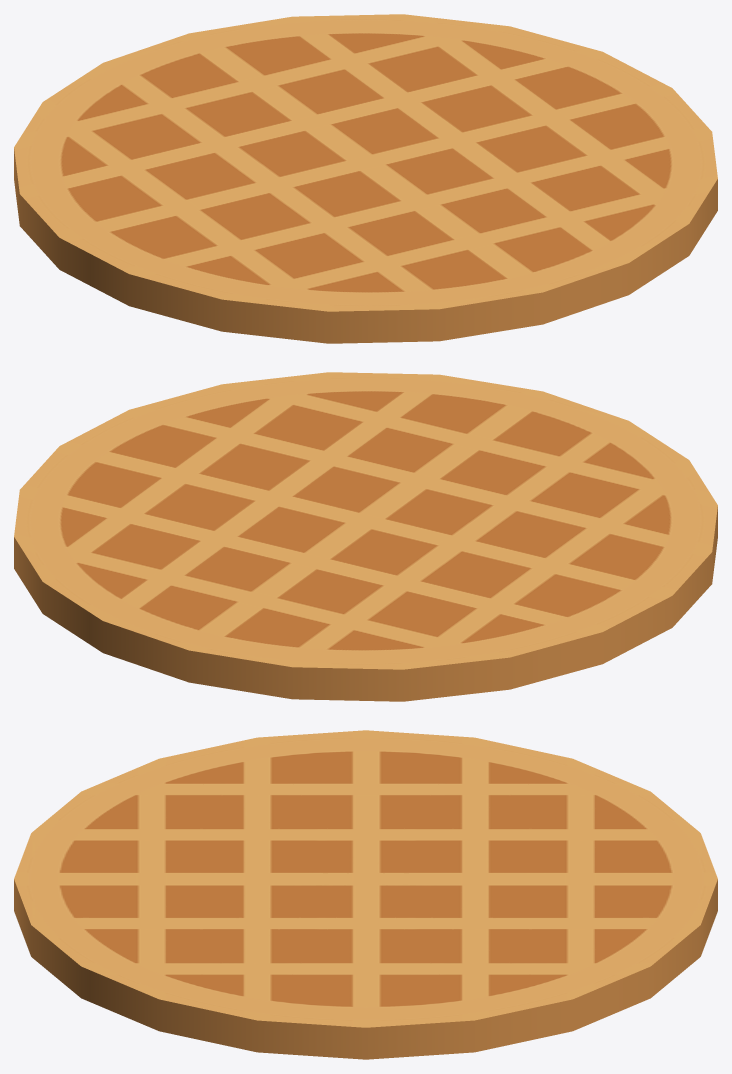
Rendered from Waffle_Slice.glb.
The picture shows the model from 3 angles, top to bottom: view 1: azimuth 30°, elevation 25°; view 2: azimuth 150°, elevation 25°; view 3: azimuth 270°, elevation 25°; orthographic projection.
Parts seen in each view (by area): view 1: Waffle_Slice; view 2: Waffle_Slice; view 3: Waffle_Slice.
Part boxes in pixels (bbox=[...]): Waffle_Slice: bbox=[14, 14, 717, 343]; Waffle_Slice: bbox=[14, 372, 717, 701]; Waffle_Slice: bbox=[14, 730, 717, 1059].
Bounding box in the file's own units: 20 × 1 × 20.
1 material, 1 textured.
